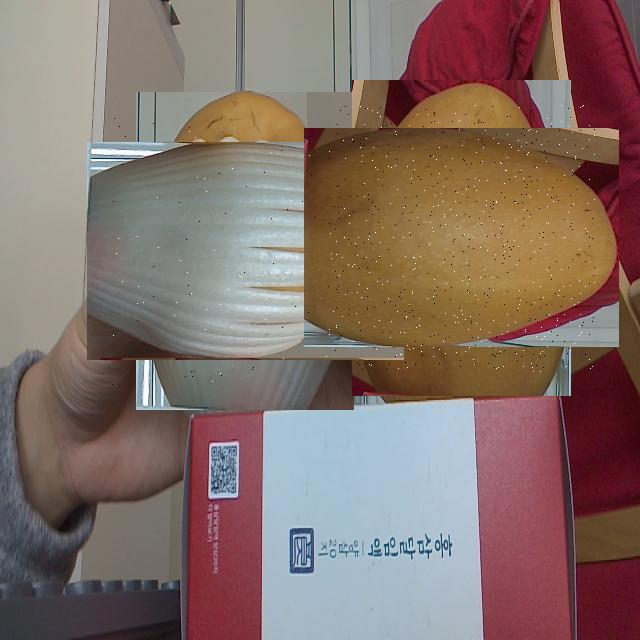pear: (111, 117, 379, 385), (328, 104, 595, 372)
